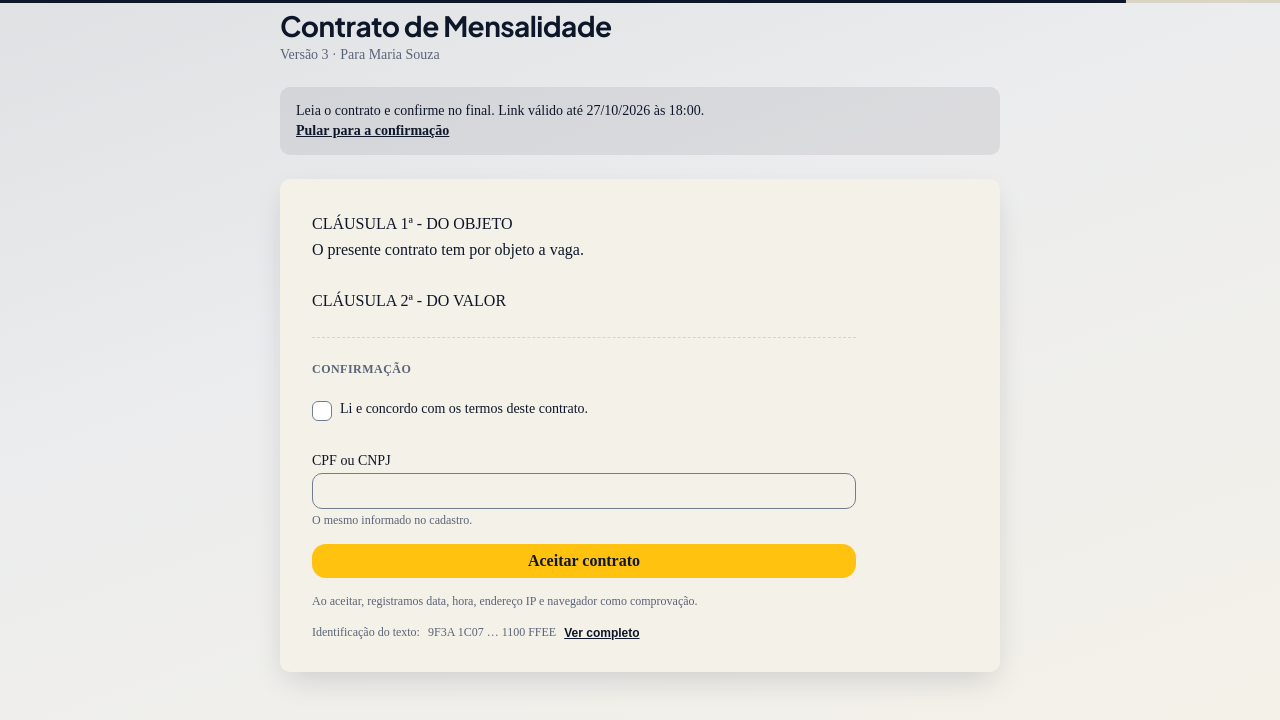
Test: ContratoAceite: leitura › a identificação do texto pode ser vista completa
(page scrolled)
Click the button "Ver completo": (602, 633) [564, 626, 640, 640]
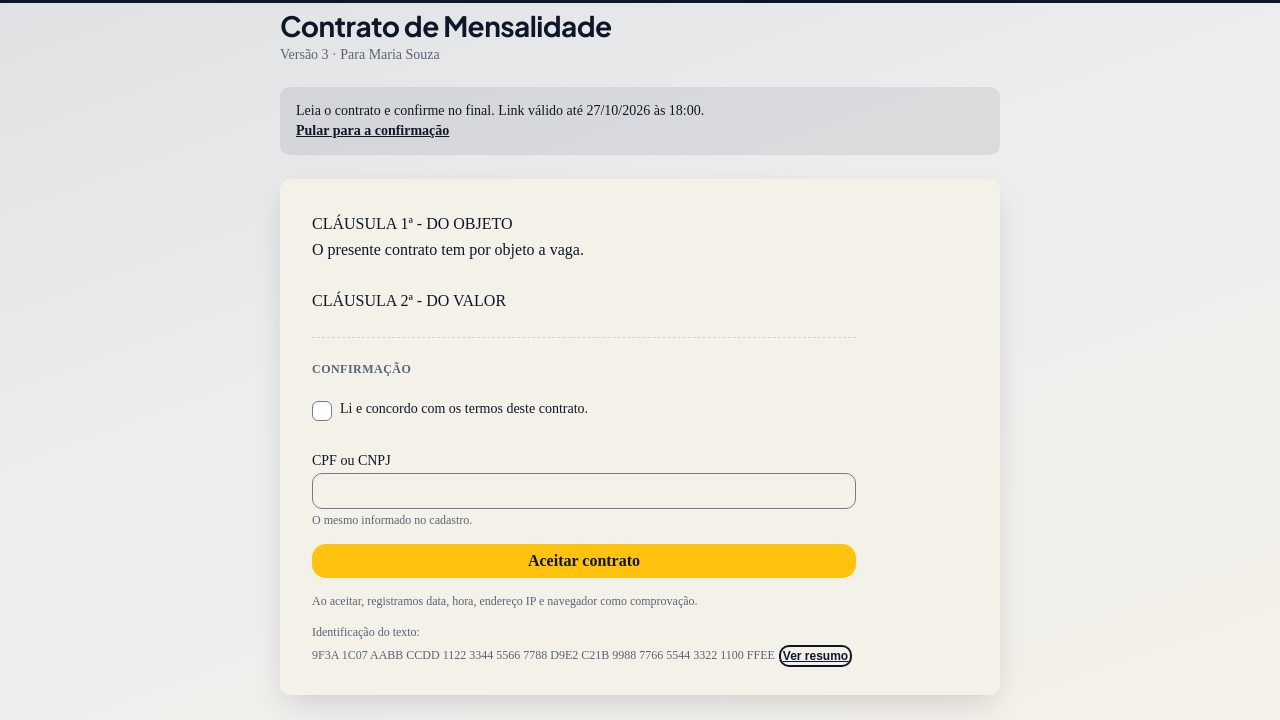
Check: the button "Ver resumo" is expanded, box [783, 649, 848, 663]
